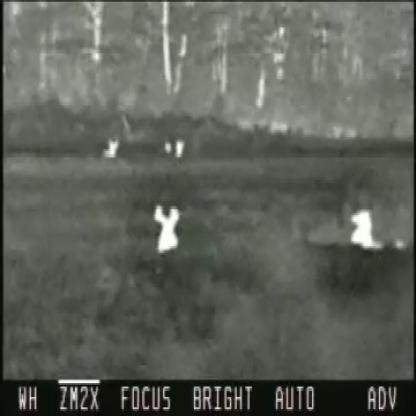rehkitze: (153, 202, 181, 254), (352, 205, 378, 252)
